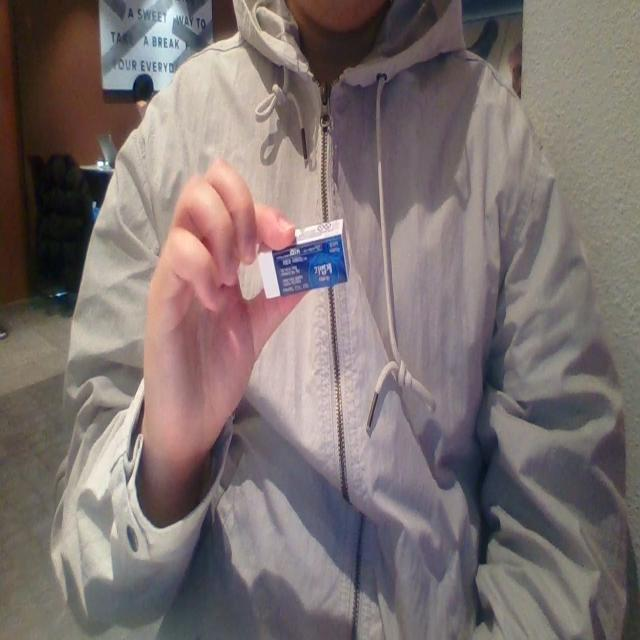eraser: (247, 222, 352, 294)
grab_eraser: (135, 155, 355, 499)
